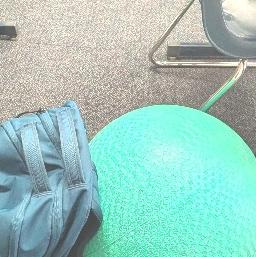algae: (82, 107, 256, 257)
